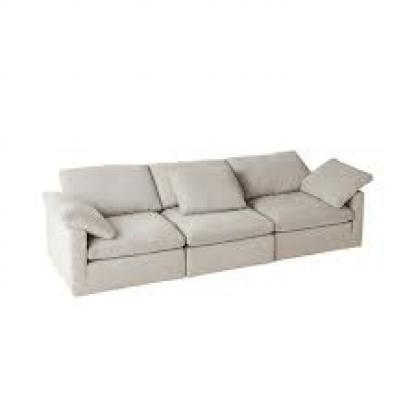sofa: (30, 153, 384, 296)
